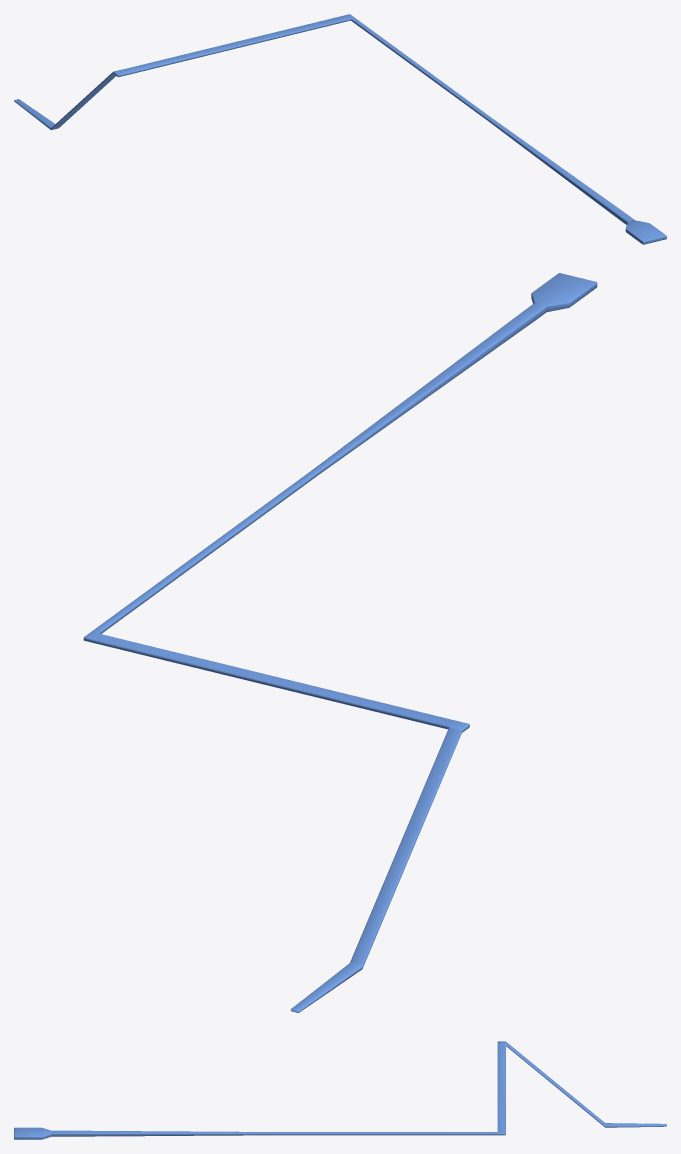
File: slope3.fbx
The picture shows the model from 3 angles, top to bottom: view 1: azimuth 30°, elevation 25°; view 2: azimuth 150°, elevation 25°; view 3: azimuth 270°, elevation 25°; orthographic projection. The views are drawn at different scales.
Parts seen in each view (by area): view 1: Cube.002; view 2: Cube.002; view 3: Cube.002.
Boxes of the visible parts, x1,y1,x2,y2 form: Cube.002: (14, 14, 666, 244); Cube.002: (83, 273, 597, 1012); Cube.002: (14, 1041, 666, 1139).
Bounding box in the file's own units: 3783 × 1545 × 10831.
